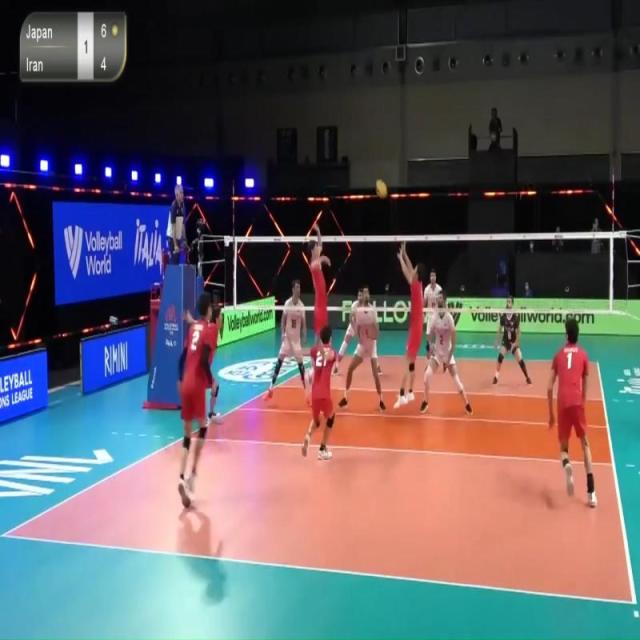volleyball: (376, 179, 387, 199)
